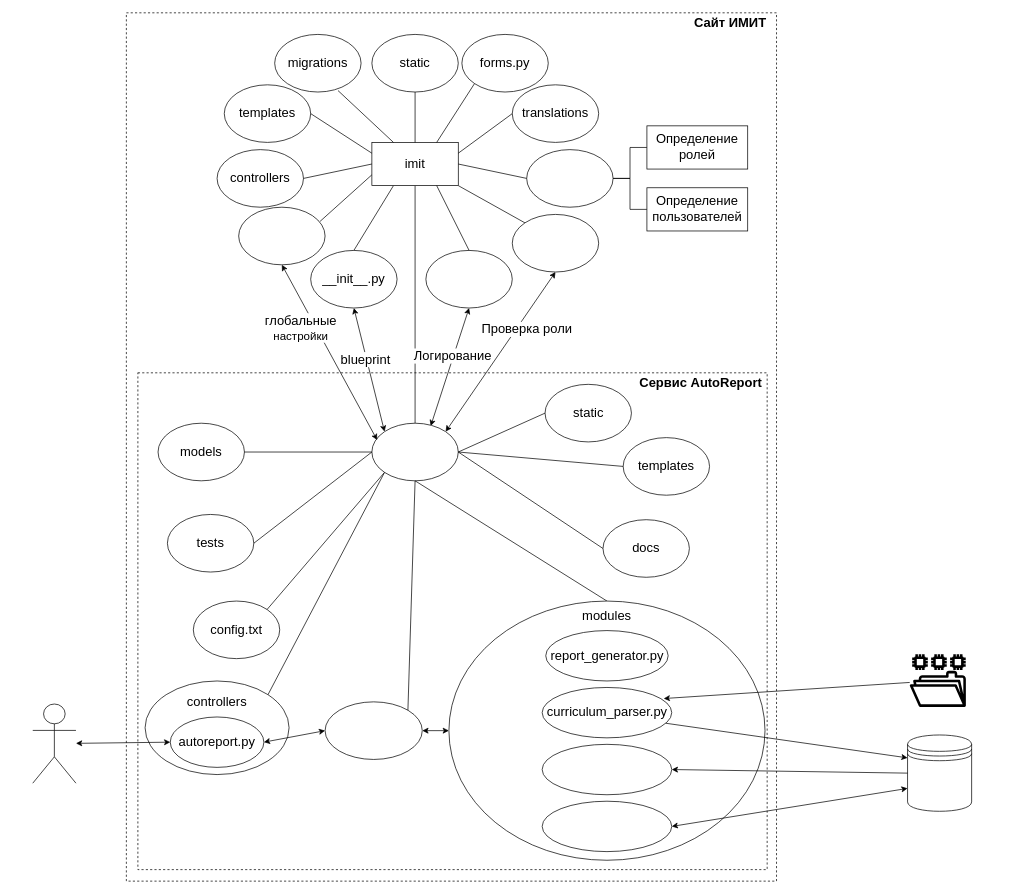
Image size: 1027x894. Some labels were removed from this diagram. The shapes that lost their labels are listed below. From the top down, each one's centre as x and y in pixels, then its label:
At (569,178): "models.py".
At (281,235): "config.py".
At (555,243): "utils.py".
At (468,279): "LOG_FILE".
At (414,451): "Autoreport".
At (937,680): "Файловая система ИМИТ".
At (54,743): "Пользователь".
At (373,730): "funcs.py".
At (606,769): "curriculum_getter.py".
At (939,772): "БД".
At (606,826): "report_state.py".
